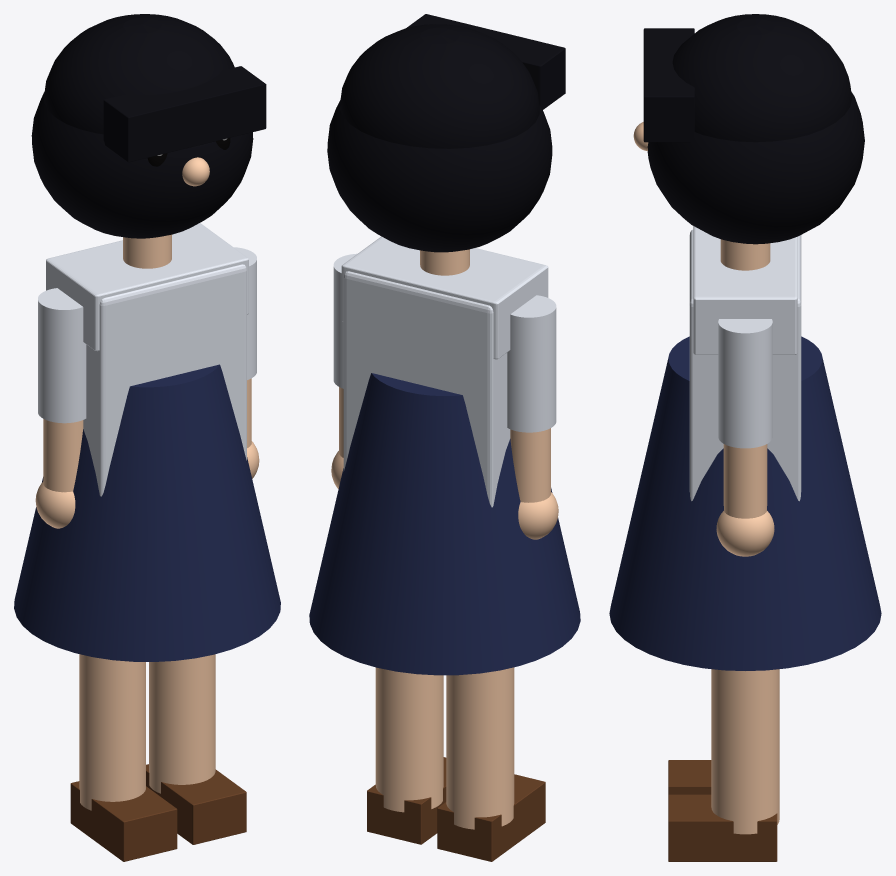
The model's file is filha.glb.
3 renders of one model, left to right at view 1: azimuth 30°, elevation 25°; view 2: azimuth 150°, elevation 25°; view 3: azimuth 270°, elevation 25°, orthographic.
Visible parts, largest first — view 1: Cone, tronco, cabelo_c, cabelo, franja, coxa-1, ombros, coxa1, braco_c-1, sap-1, sap1, antebraco-1 (+4 smaller); view 2: Cone, cabelo_c, cabelo, tronco, coxa-1, coxa1, ombros, braco_c-1, sap-1, franja, sap1, antebraco-1 (+3 smaller); view 3: Cone, cabelo_c, cabelo, coxa1, ombros, tronco, braco_c1, sap1, franja, antebraco1, mao1, sap-1 (+1 smaller).
Part boxes in pixels (left/top/right/bottom): Cone: left=14, top=364, right=280, bottom=661; tronco: left=83, top=264, right=246, bottom=496; cabelo_c: left=31, top=92, right=253, bottom=238; cabelo: left=44, top=14, right=234, bottom=134; franja: left=103, top=66, right=266, bottom=162; coxa-1: left=79, top=654, right=145, bottom=810; ombros: left=46, top=223, right=248, bottom=351; coxa1: left=149, top=654, right=215, bottom=793; braco_c-1: left=38, top=288, right=86, bottom=423; sap-1: left=70, top=781, right=177, bottom=861; sap1: left=146, top=764, right=246, bottom=844; antebraco-1: left=43, top=419, right=83, bottom=492; Cone: left=309, top=373, right=580, bottom=675; cabelo_c: left=327, top=100, right=552, bottom=252; cabelo: left=340, top=24, right=539, bottom=148; tronco: left=343, top=271, right=510, bottom=507; coxa-1: left=446, top=667, right=514, bottom=829; coxa1: left=375, top=667, right=443, bottom=812; ombros: left=341, top=236, right=548, bottom=359; braco_c-1: left=507, top=295, right=556, bottom=432; sap-1: left=437, top=774, right=545, bottom=861; franja: left=406, top=14, right=565, bottom=109; sap1: left=367, top=757, right=446, bottom=844; antebraco-1: left=510, top=428, right=550, bottom=502; Cone: left=609, top=336, right=881, bottom=670; cabelo_c: left=647, top=92, right=864, bottom=244; cabelo: left=672, top=14, right=851, bottom=142; coxa1: left=711, top=669, right=779, bottom=834; ombros: left=693, top=226, right=797, bottom=354; tronco: left=689, top=229, right=801, bottom=501; braco_c1: left=718, top=319, right=772, bottom=448; sap1: left=668, top=794, right=777, bottom=861; franja: left=643, top=28, right=694, bottom=142; antebraco1: left=723, top=444, right=767, bottom=518; mao1: left=716, top=511, right=774, bottom=556; sap-1: left=668, top=760, right=711, bottom=794.
Bounding box in the file's own units: 0.492 × 1.61 × 0.492.
